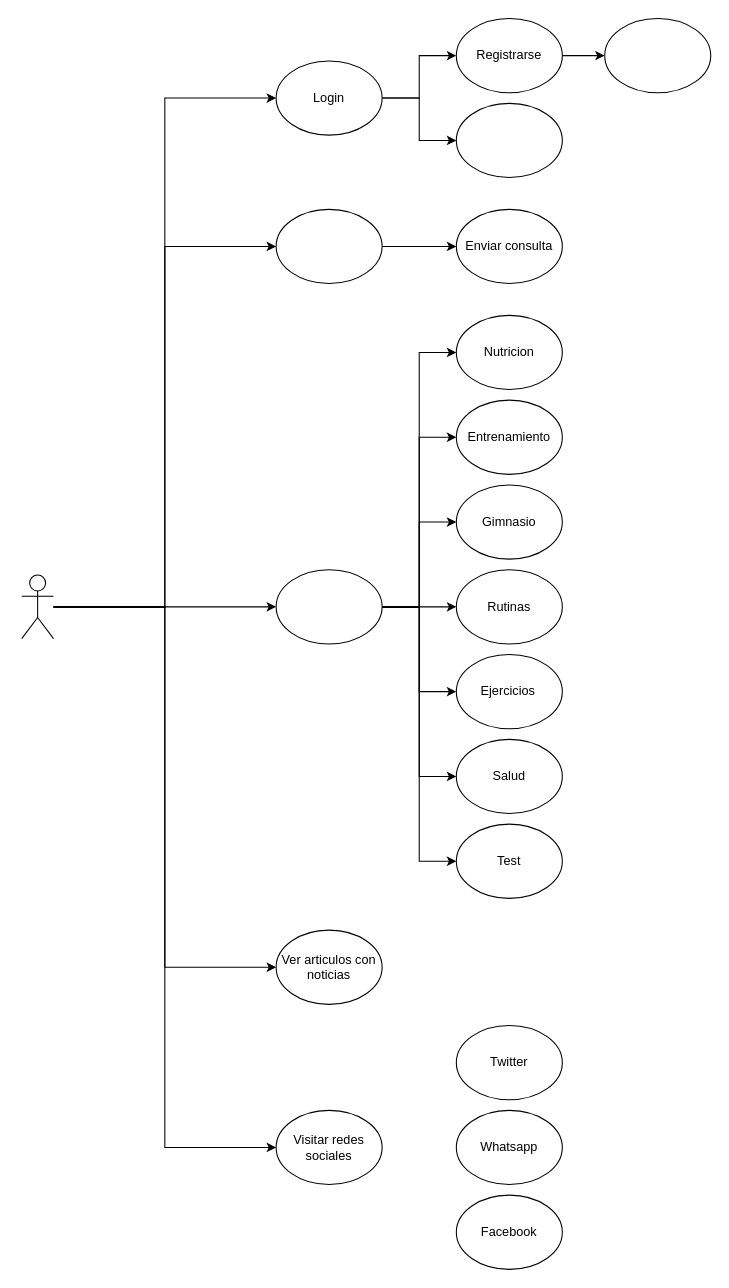
Some shapes in this 729 by 1288 pixel diagram are drawn without their labels. Here are the shapes that lost their labels. From the top down, the box of each, then its label:
(604, 17, 711, 93): Elegir nivel de suscripción
(455, 102, 562, 178): Iniciar sesion
(275, 208, 382, 284): Contacto
(21, 574, 54, 639): Cliente
(275, 569, 382, 644): Consultar servicios
